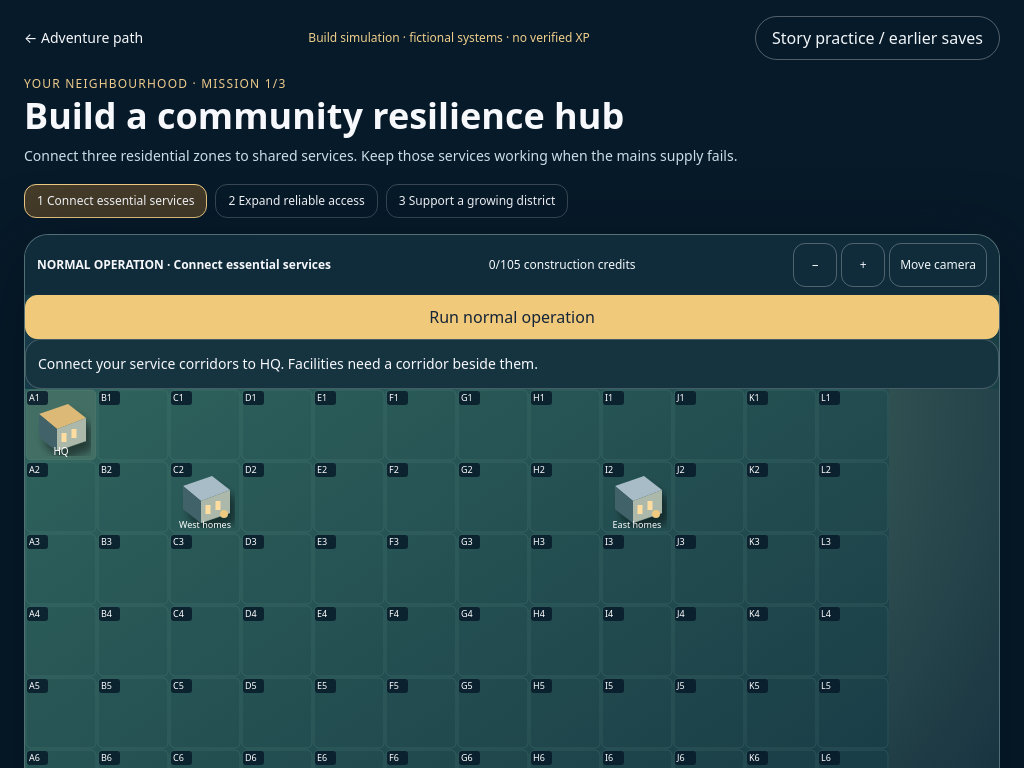
Test case: diagnoses failure without recording progress and permits placing modules with keyboard
This screenshot has width=1024, height=768.
Press Enter in the button "B1: Clear ground", box left=101, top=391, right=112, bottom=404
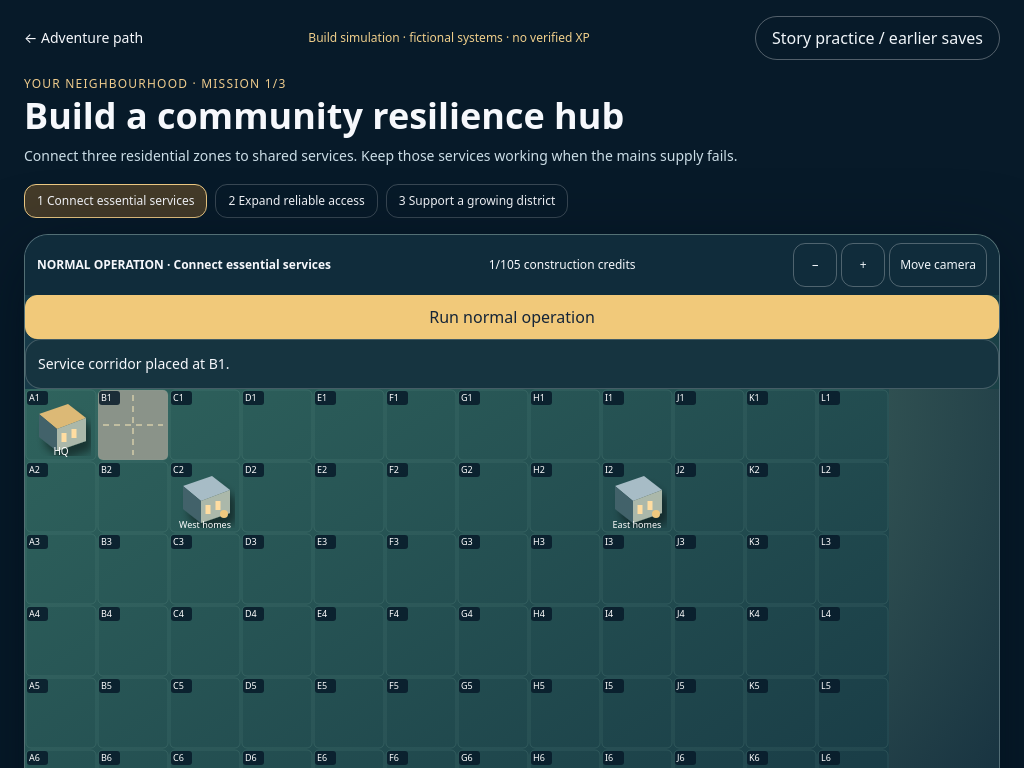
Click the button "Run normal operation". click: (512, 317)
box: left=25, top=295, right=999, bottom=339
Wait 2000 ms
(page scrolled)
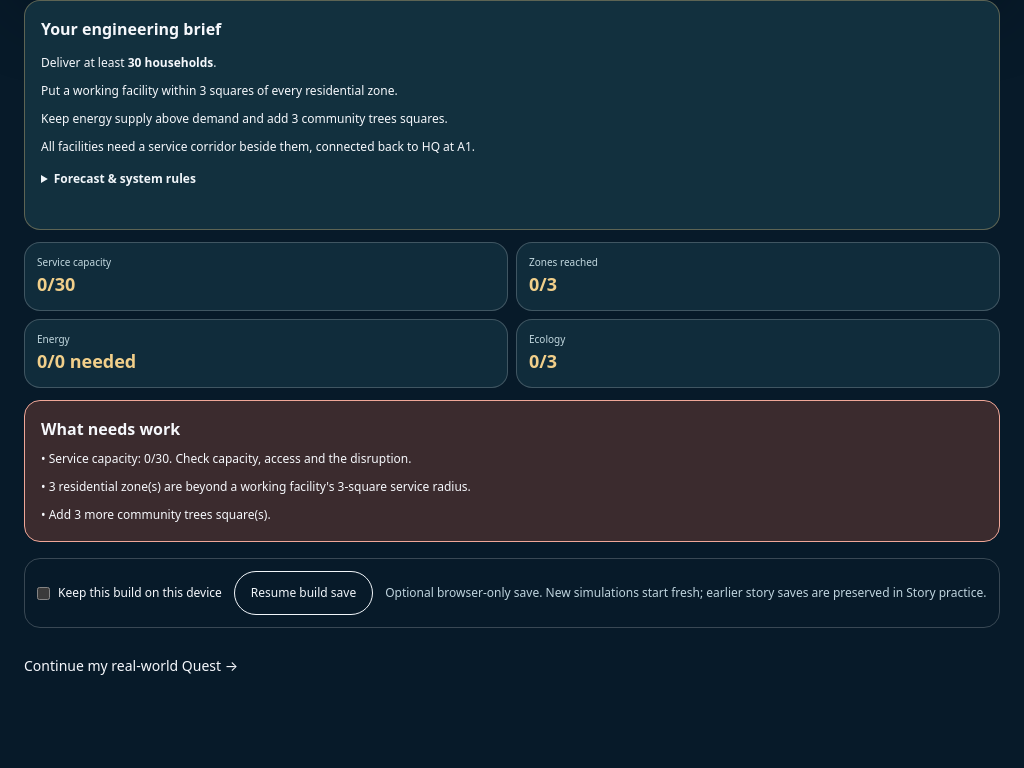
Expected: the element named "System diagnostic report" is shown, left=24, top=400, right=1000, bottom=542
